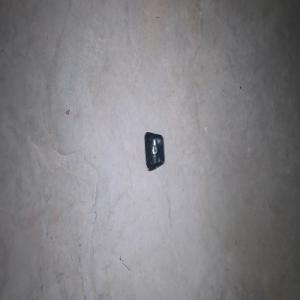LuggagePart: (144, 131, 164, 171)
